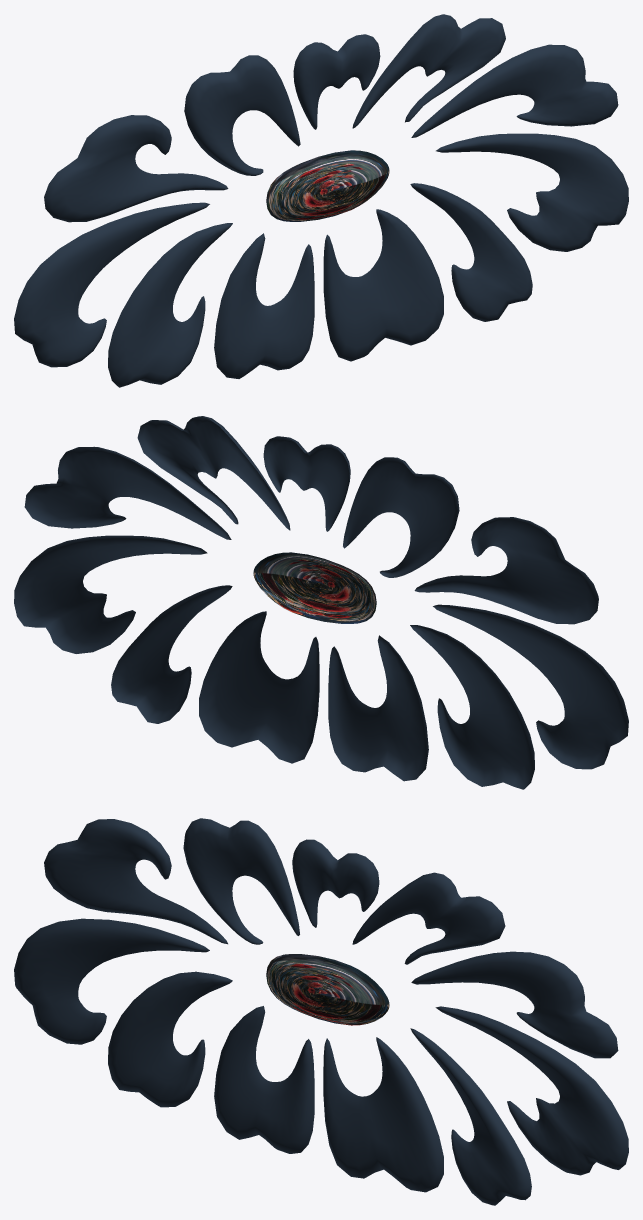
Rendered from decoracion.gltf.
3 renders of one model, top to bottom at view 1: azimuth 30°, elevation 25°; view 2: azimuth 150°, elevation 25°; view 3: azimuth 330°, elevation 25°, orthographic.
Parts seen in each view (by area): view 1: decoracion; view 2: decoracion; view 3: decoracion.
Part boxes in pixels (x1,y1,x2,y2): decoracion: [14, 14, 628, 387]; decoracion: [14, 416, 628, 789]; decoracion: [14, 818, 628, 1205].
Size of the model in its own units: 83.43 by 42.93 by 1.5.
Materials: 1 (1 with a texture image).
